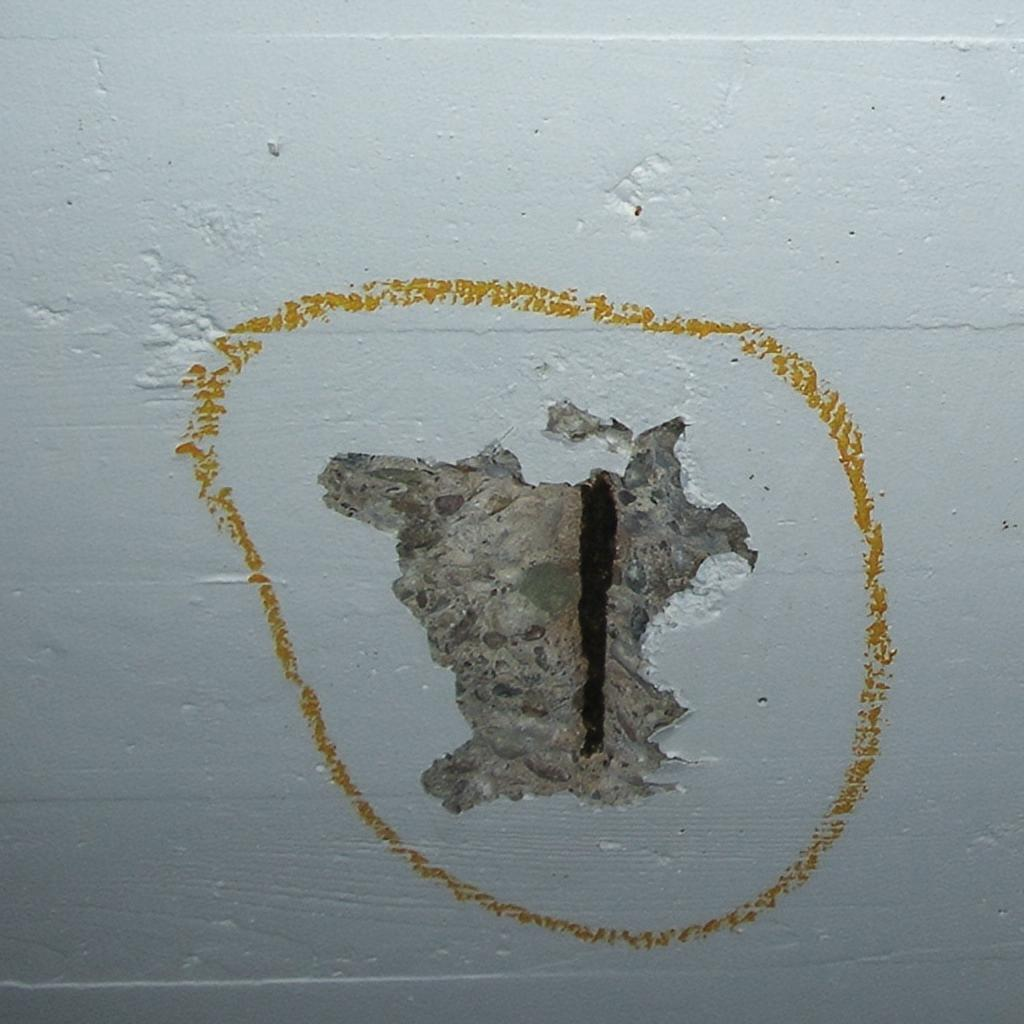exposed_rebar: (578, 472, 618, 757)
spalling: (320, 402, 756, 812)
